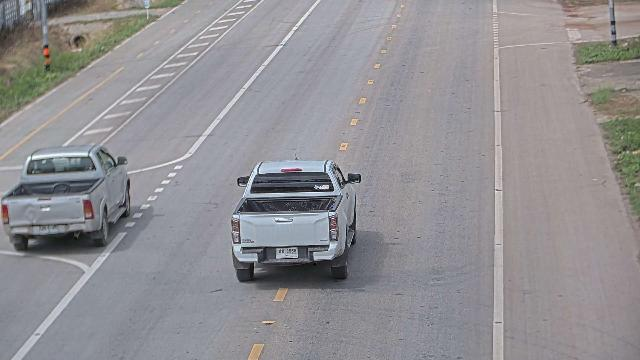pickup-truck: (230, 156, 361, 282), (1, 143, 131, 251)
